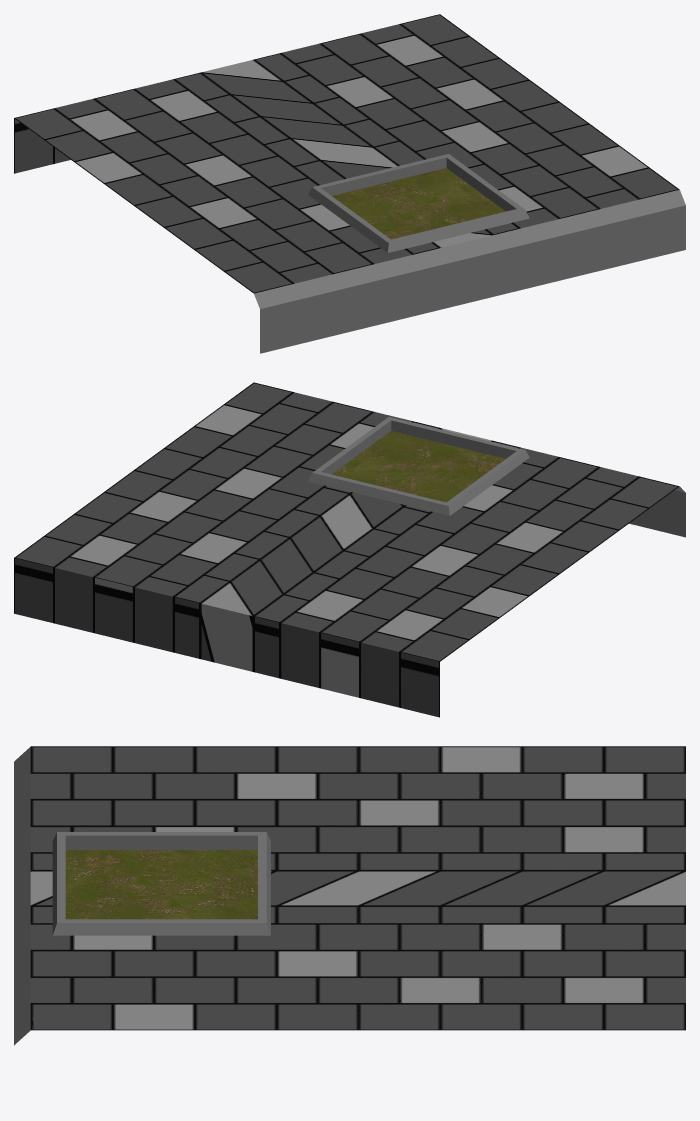
Rendered from Tree_sidewalk.fbx.
The picture shows the model from 3 angles, top to bottom: view 1: azimuth 30°, elevation 25°; view 2: azimuth 150°, elevation 25°; view 3: azimuth 270°, elevation 25°; orthographic projection. The views are drawn at different scales.
Visible parts, largest first — view 1: Acera árbol; view 2: Acera árbol; view 3: Acera árbol.
Part boxes in pixels (left/top/right/bottom): Acera árbol: left=14, top=14, right=685, bottom=353; Acera árbol: left=14, top=382, right=685, bottom=717; Acera árbol: left=14, top=746, right=685, bottom=1045.
Bounding box in the file's own units: 800 × 114 × 800.
